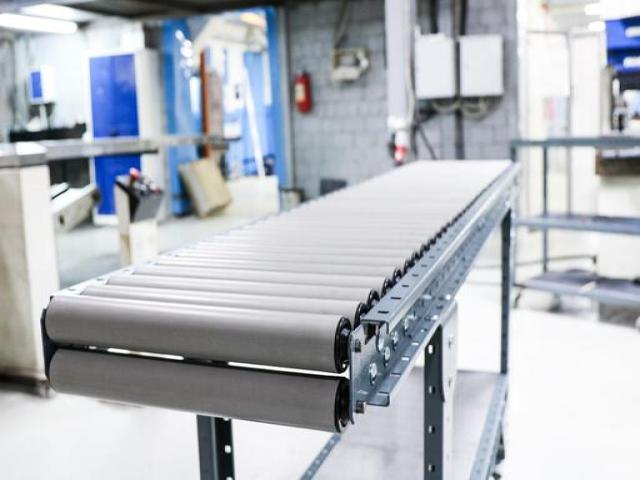conveyor: (38, 158, 538, 480)
